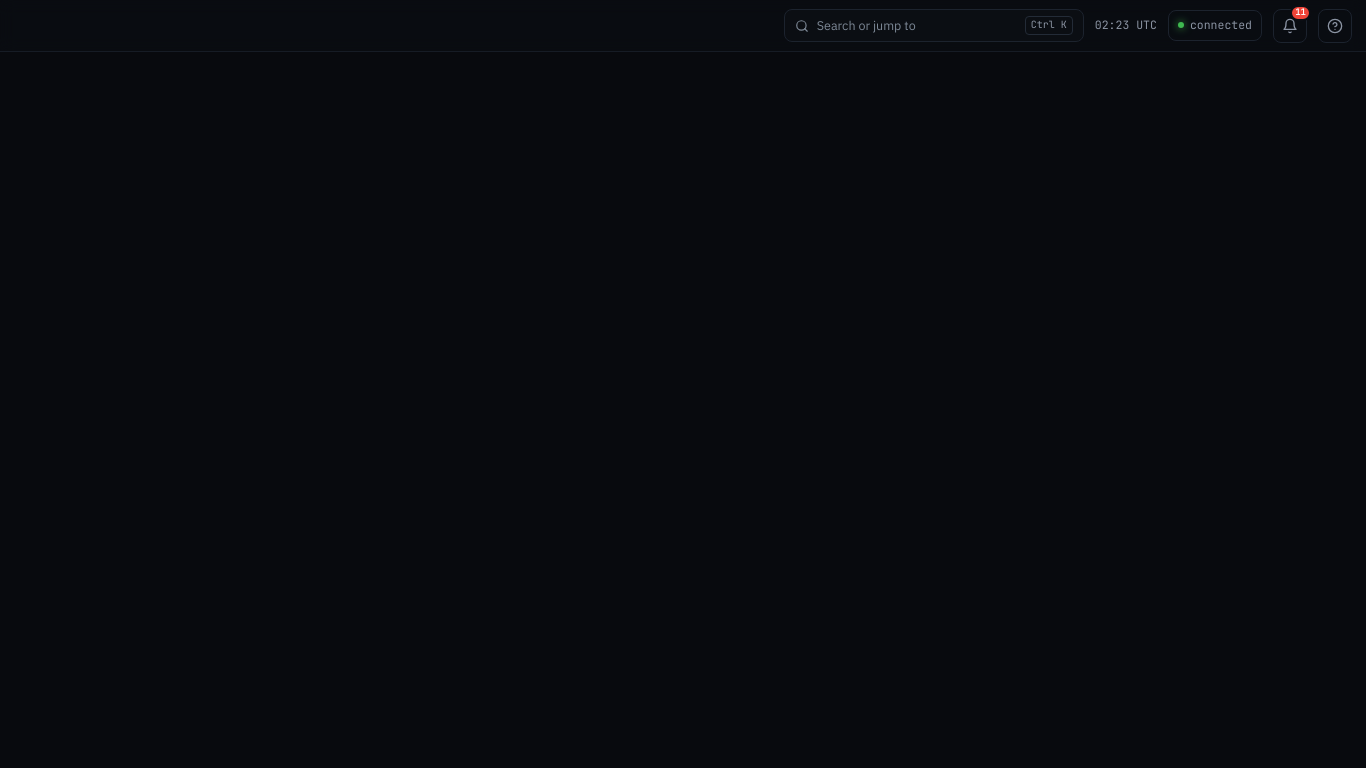
Scenario: Topbar badge states the needs-you count › badges the needs-you total and states it beside the events
Check: the text with test id "notif-badge" reads "11", box x1=1295 y1=6 x2=1306 y2=18
Click the button named "Notifications".
click(1290, 26)  # box x1=1273 y1=8 x2=1307 y2=42
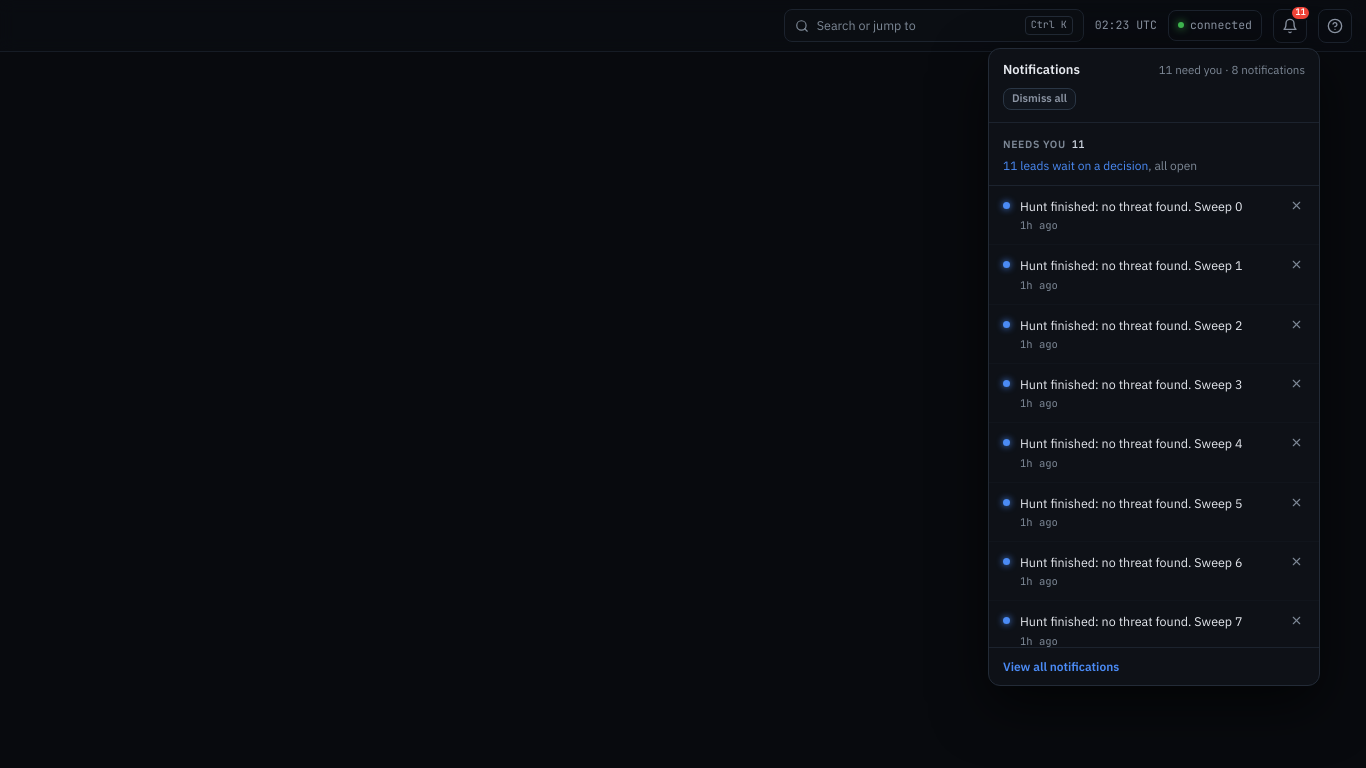
Check: the text with test id "notif-summary" reads "11 need you · 8 notifications", box x1=1159 y1=62 x2=1305 y2=77
